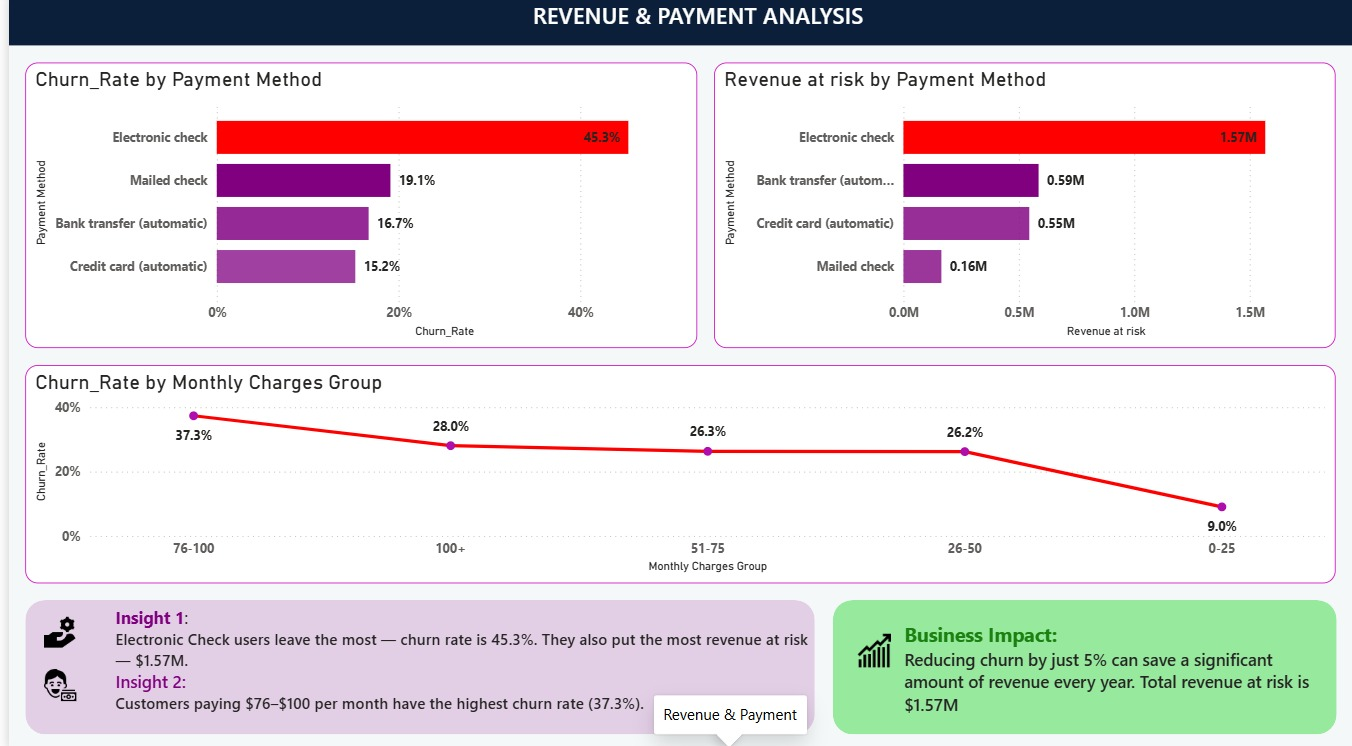

What the dashboard file says about the page in this screenshot:
{"tool":"powerbi","page":{"name":"Revenue & Payment ","canvas":[1280,720],"ordinal":4},"visuals":[{"type":"shape","box":[0,0,1280,48],"z":0},{"type":"textbox","box":[352,0,608,48],"z":1000},{"type":"clusteredBarChart","fields":{"Y":["Telco_Churn.Churn_Rate"],"Category":["Telco_Churn.Payment Method"]},"box":[16,64,640,272],"z":2000},{"type":"lineChart","fields":{"Category":["Telco_Churn.Monthly Charges Group"],"Y":["Telco_Churn.Churn_Rate"]},"box":[16,352,1248,208],"z":3000},{"type":"clusteredBarChart","fields":{"Y":["Telco_Churn.Revenue at risk"],"Category":["Telco_Churn.Payment Method"]},"box":[672,64,592,272],"z":4000},{"type":"shape","box":[16,576,752,128],"z":5000},{"type":"shape","box":[784,576,480,128],"z":6000},{"type":"textbox","box":[96,576,672,128],"z":7000},{"type":"textbox","box":[848,592,400,128],"z":8000},{"type":"image","box":[800,608,48,32],"z":9000},{"type":"image","box":[32,640,32,32],"z":10000},{"type":"image","box":[32,576,32,64],"z":11000}]}

Visuals, with their boxes in screenshot pixels (x1, y1, x2, y2), scaled from the page's 1280x720 canvas onto the 1352x746 screenshot:
shape: pyautogui.locateOnScreen(0, 0, 1351, 50)
textbox: pyautogui.locateOnScreen(372, 0, 1014, 50)
clusteredBarChart - Telco_Churn.Churn_Rate x Telco_Churn.Payment Method: pyautogui.locateOnScreen(17, 66, 693, 348)
lineChart - Telco_Churn.Monthly Charges Group x Telco_Churn.Churn_Rate: pyautogui.locateOnScreen(17, 365, 1335, 580)
clusteredBarChart - Telco_Churn.Revenue at risk x Telco_Churn.Payment Method: pyautogui.locateOnScreen(710, 66, 1335, 348)
shape: pyautogui.locateOnScreen(17, 597, 811, 729)
shape: pyautogui.locateOnScreen(828, 597, 1335, 729)
textbox: pyautogui.locateOnScreen(101, 597, 811, 729)
textbox: pyautogui.locateOnScreen(896, 613, 1318, 745)
image: pyautogui.locateOnScreen(845, 630, 896, 663)
image: pyautogui.locateOnScreen(34, 663, 68, 696)
image: pyautogui.locateOnScreen(34, 597, 68, 663)
